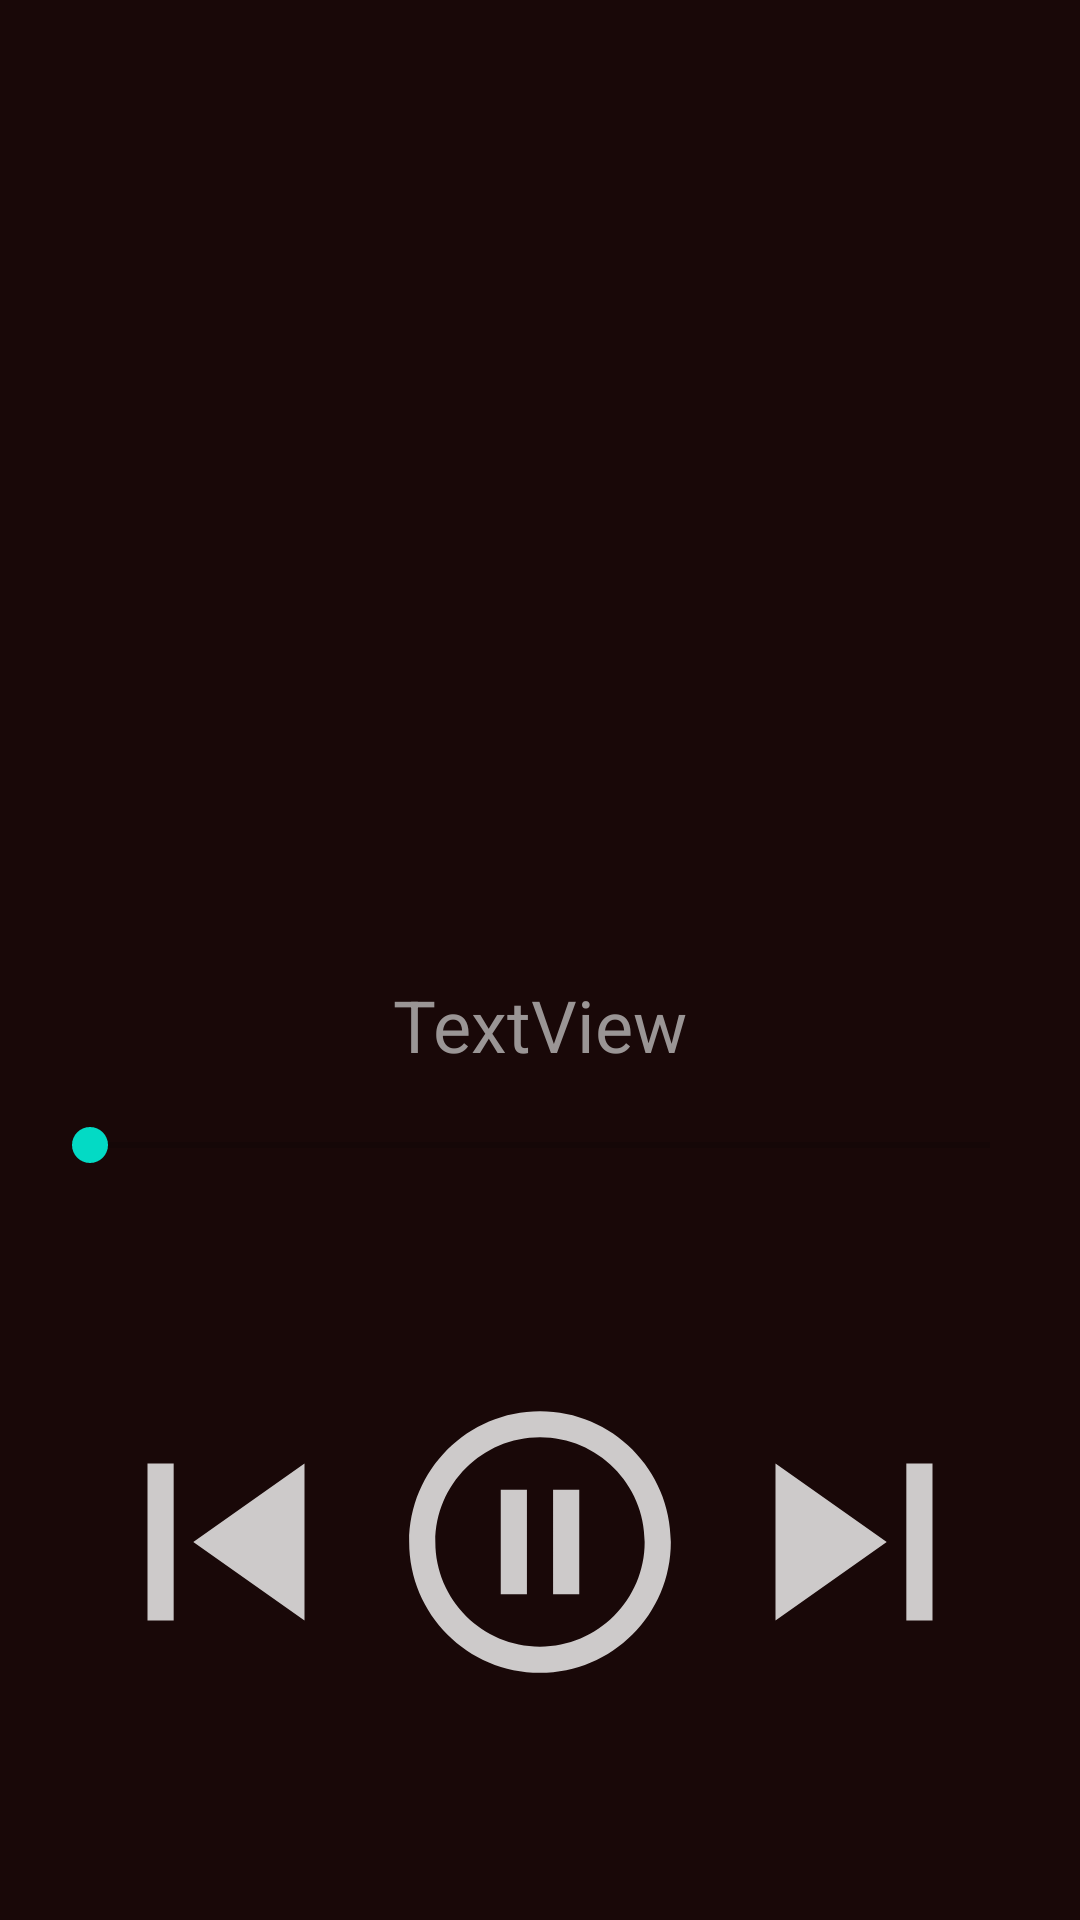

Icon click points for this 1080*1920 phone screenshot, format (x=x, y=y):
next: (x=854, y=1542)
pause: (x=540, y=1542)
previous: (x=226, y=1542)
